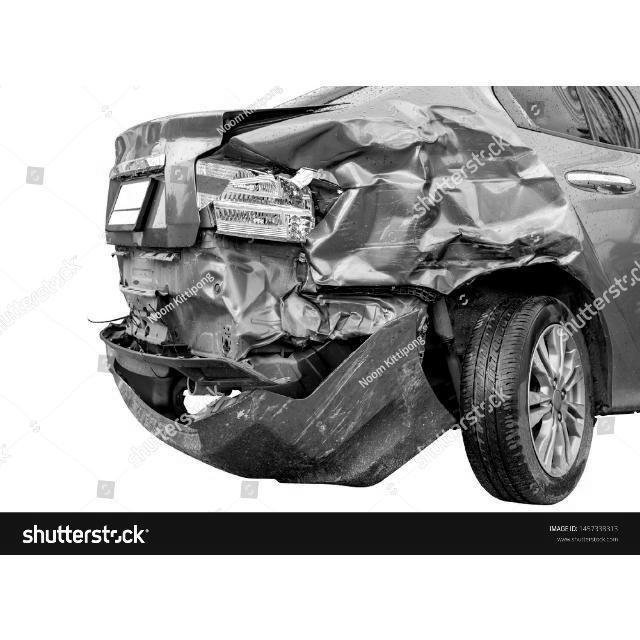Taillight-Damage: (190, 151, 330, 255)
boot-dent: (176, 92, 310, 136)
quaterpanel-dent: (305, 102, 584, 281)
rear-bumper-dent: (113, 245, 305, 479), (304, 288, 446, 476)
